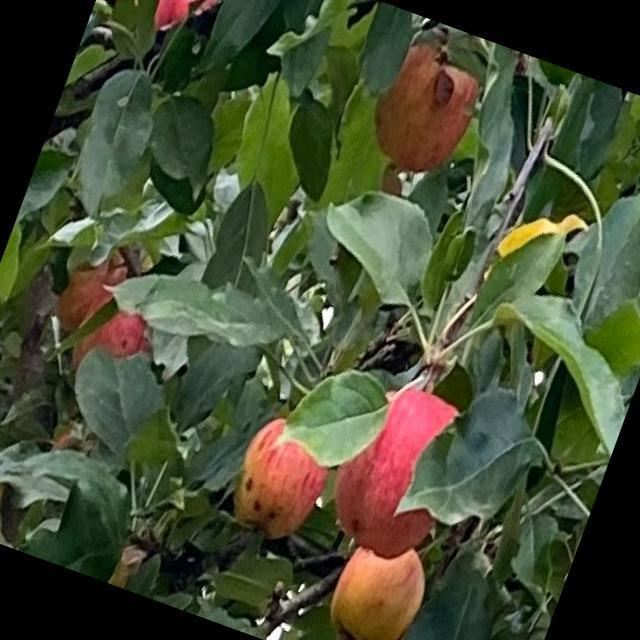100-_ripeness: (314, 373, 474, 569), (362, 31, 492, 183), (221, 408, 342, 546), (314, 528, 437, 639), (63, 290, 161, 396), (52, 238, 132, 338), (151, 0, 229, 47)
